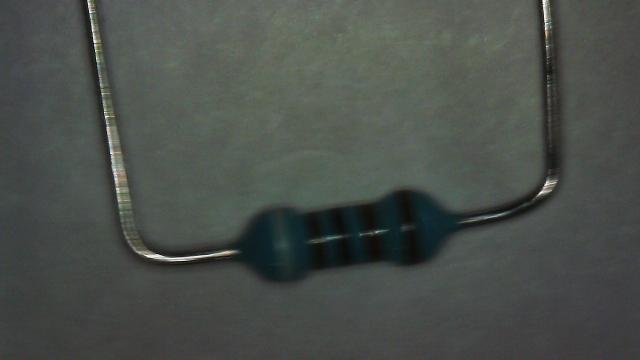black: (330, 207, 352, 264)
brown: (394, 190, 422, 264), (358, 204, 381, 261), (304, 212, 327, 268)
resistor: (241, 182, 456, 282)
white: (269, 212, 289, 274)
